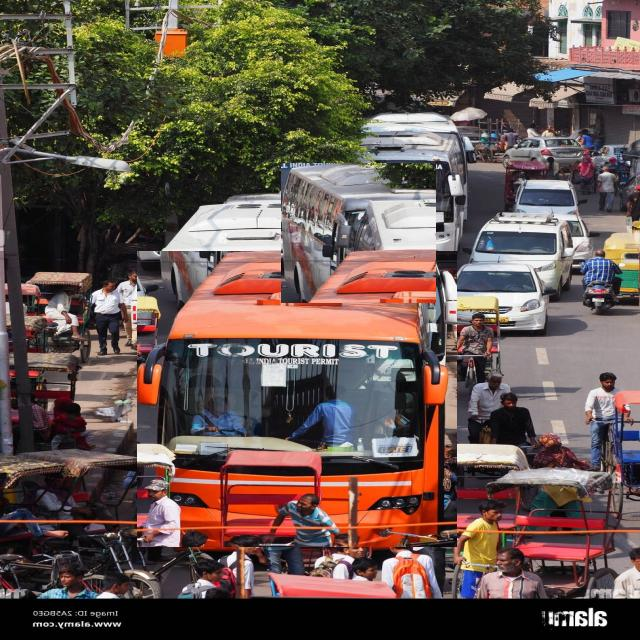bicycle: (433, 296, 501, 388)
bus: (137, 251, 456, 547), (281, 164, 435, 303), (362, 131, 469, 270)
car: (437, 262, 558, 335), (471, 212, 574, 297), (512, 180, 587, 215), (505, 138, 585, 166)
motorcycle: (581, 250, 622, 315)
